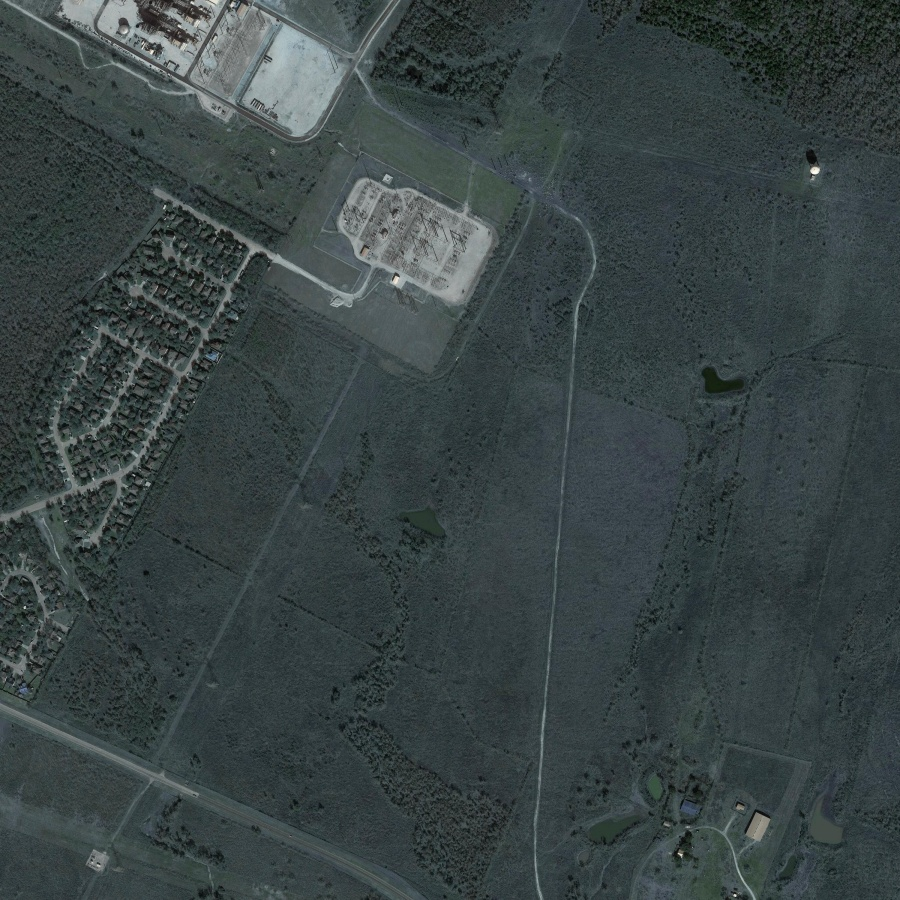PowerPlant: (335, 162, 482, 298)
